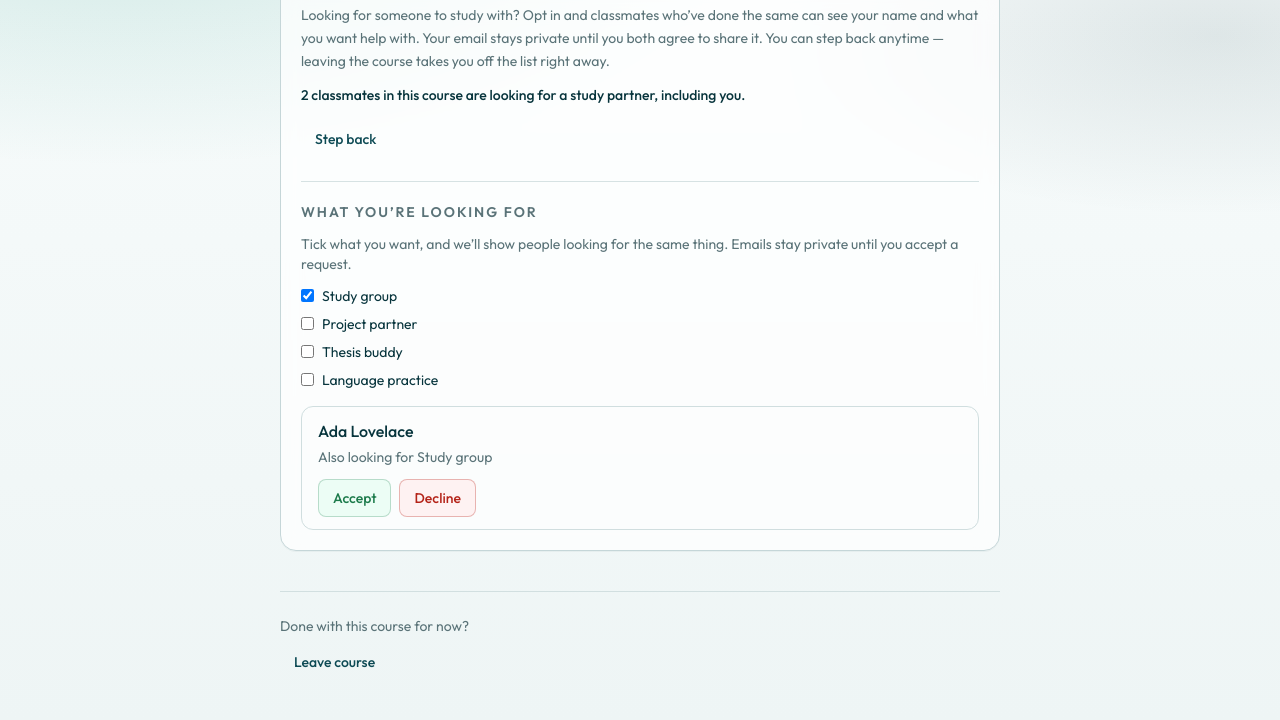
material pages › shows an email only after the student accepts a contact request
(page scrolled)
Expected: the text "Ada Lovelace" is shown, 318,420 -> 414,440
Expected: the text "ada@uni.test" is not shown
Step 1. Click the button "Accept" → (355, 498), box 318,478 -> 392,516
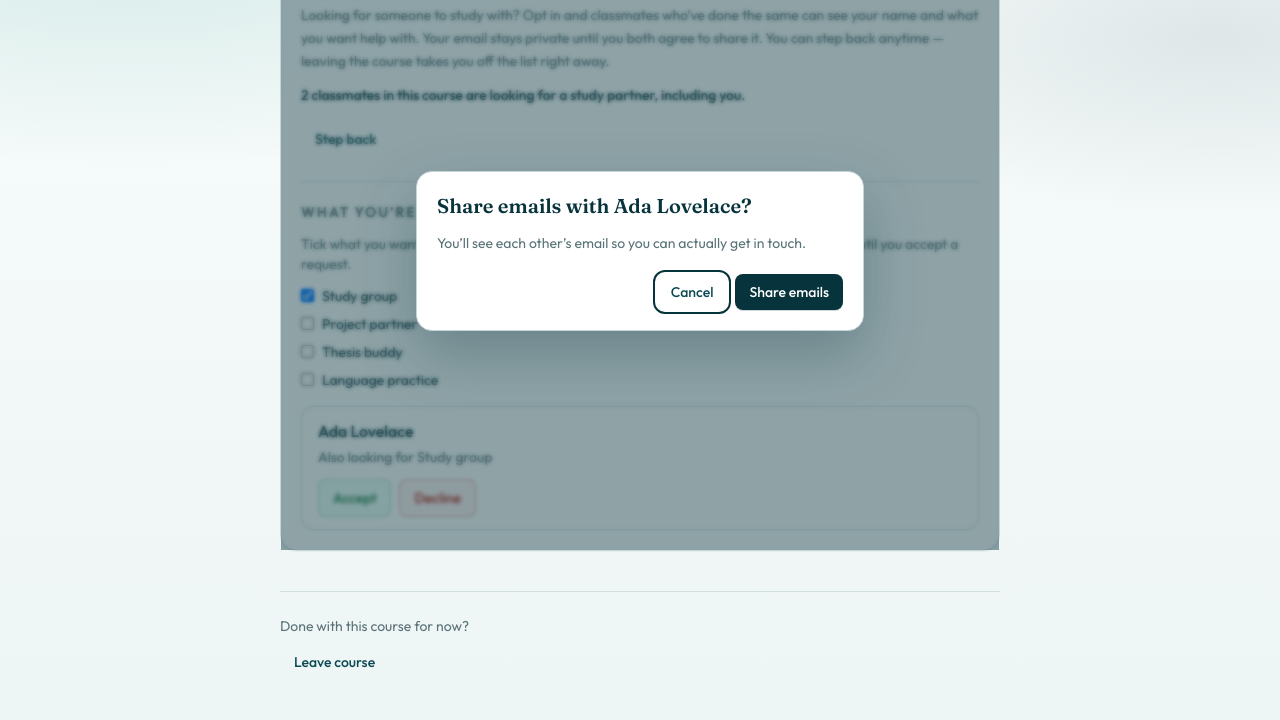
Result: the text "You’ll see each other’s email" is shown at 437,234 -> 806,252
Step 2. Click the button "Share emails" → (789, 292), box 735,274 -> 843,310
(page scrolled)
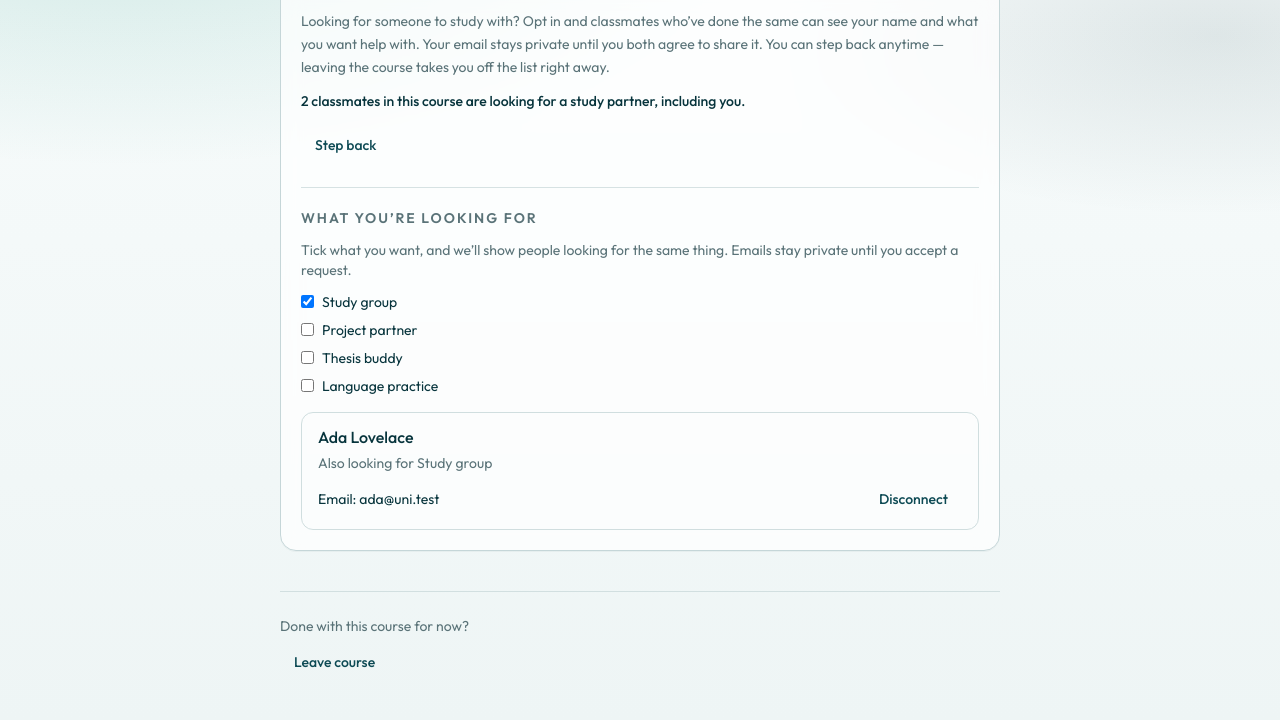
Result: the text "Email: ada@uni.test" is shown at 318,488 -> 439,508
